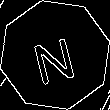N_N: (29, 26, 81, 84)
